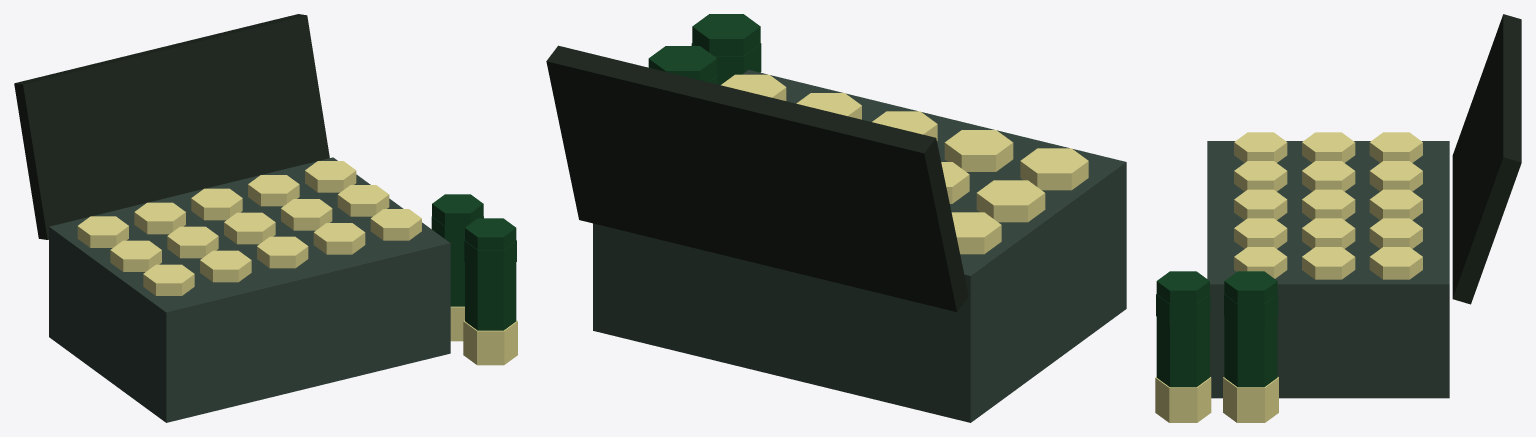
Rendered from ce_ammo_shotgun_slug_c.obj.
3 views of the same model, side by side, from view 1: azimuth 30°, elevation 25°; view 2: azimuth 150°, elevation 25°; view 3: azimuth 270°, elevation 25° (orthographic). The views are drawn at different scales.
Parts seen in each view (by area): view 1: ce_ammo_shotgun_slug_c_0, ce_ammo_shotgun_slug_c_16, ce_ammo_shotgun_slug_c_18, ce_ammo_shotgun_slug_c_21, ce_ammo_shotgun_slug_c_17, ce_ammo_shotgun_slug_c_7, ce_ammo_shotgun_slug_c_4, ce_ammo_shotgun_slug_c_10, ce_ammo_shotgun_slug_c_1, ce_ammo_shotgun_slug_c_6, ce_ammo_shotgun_slug_c_8, ce_ammo_shotgun_slug_c_13 (+11 smaller); view 2: ce_ammo_shotgun_slug_c_0, ce_ammo_shotgun_slug_c_16, ce_ammo_shotgun_slug_c_2, ce_ammo_shotgun_slug_c_1, ce_ammo_shotgun_slug_c_4, ce_ammo_shotgun_slug_c_18, ce_ammo_shotgun_slug_c_21, ce_ammo_shotgun_slug_c_3, ce_ammo_shotgun_slug_c_7, ce_ammo_shotgun_slug_c_13, ce_ammo_shotgun_slug_c_10, ce_ammo_shotgun_slug_c_19 (+1 smaller); view 3: ce_ammo_shotgun_slug_c_0, ce_ammo_shotgun_slug_c_16, ce_ammo_shotgun_slug_c_18, ce_ammo_shotgun_slug_c_21, ce_ammo_shotgun_slug_c_17, ce_ammo_shotgun_slug_c_20, ce_ammo_shotgun_slug_c_14, ce_ammo_shotgun_slug_c_15, ce_ammo_shotgun_slug_c_7, ce_ammo_shotgun_slug_c_8, ce_ammo_shotgun_slug_c_9, ce_ammo_shotgun_slug_c_5 (+11 smaller).
Boxes of the visible parts, x1,y1,x2,y2 form: ce_ammo_shotgun_slug_c_0: (49,157,450,422); ce_ammo_shotgun_slug_c_16: (14,14,329,239); ce_ammo_shotgun_slug_c_18: (465,218,516,330); ce_ammo_shotgun_slug_c_21: (432,194,483,306); ce_ammo_shotgun_slug_c_17: (463,320,517,365); ce_ammo_shotgun_slug_c_7: (257,236,308,268); ce_ammo_shotgun_slug_c_4: (200,250,251,282); ce_ammo_shotgun_slug_c_10: (313,223,365,254); ce_ammo_shotgun_slug_c_1: (143,264,194,295); ce_ammo_shotgun_slug_c_6: (134,202,185,234); ce_ammo_shotgun_slug_c_8: (224,212,275,244); ce_ammo_shotgun_slug_c_13: (370,209,421,240); ce_ammo_shotgun_slug_c_0: (593,70,1126,422); ce_ammo_shotgun_slug_c_16: (546,45,968,311); ce_ammo_shotgun_slug_c_2: (976,180,1045,222); ce_ammo_shotgun_slug_c_1: (1020,148,1088,190); ce_ammo_shotgun_slug_c_4: (944,130,1013,171); ce_ammo_shotgun_slug_c_18: (692,14,760,84); ce_ammo_shotgun_slug_c_21: (648,46,716,81); ce_ammo_shotgun_slug_c_3: (951,212,1001,254); ce_ammo_shotgun_slug_c_7: (872,111,937,140); ce_ammo_shotgun_slug_c_13: (721,74,786,100); ce_ammo_shotgun_slug_c_10: (796,93,861,119); ce_ammo_shotgun_slug_c_19: (691,43,761,84); ce_ammo_shotgun_slug_c_0: (1207,141,1449,398); ce_ammo_shotgun_slug_c_16: (1452,14,1521,304); ce_ammo_shotgun_slug_c_18: (1156,271,1209,387); ce_ammo_shotgun_slug_c_21: (1224,271,1277,387); ce_ammo_shotgun_slug_c_17: (1155,377,1211,422); ce_ammo_shotgun_slug_c_20: (1223,377,1278,422); ce_ammo_shotgun_slug_c_14: (1302,247,1355,279); ce_ammo_shotgun_slug_c_15: (1369,247,1422,279); ce_ammo_shotgun_slug_c_7: (1234,189,1287,220); ce_ammo_shotgun_slug_c_8: (1302,189,1355,220); ce_ammo_shotgun_slug_c_9: (1369,189,1422,220); ce_ammo_shotgun_slug_c_5: (1302,161,1355,191).
Bounding box in the file's own units: 0.8202 × 0.5495 × 0.7571.
